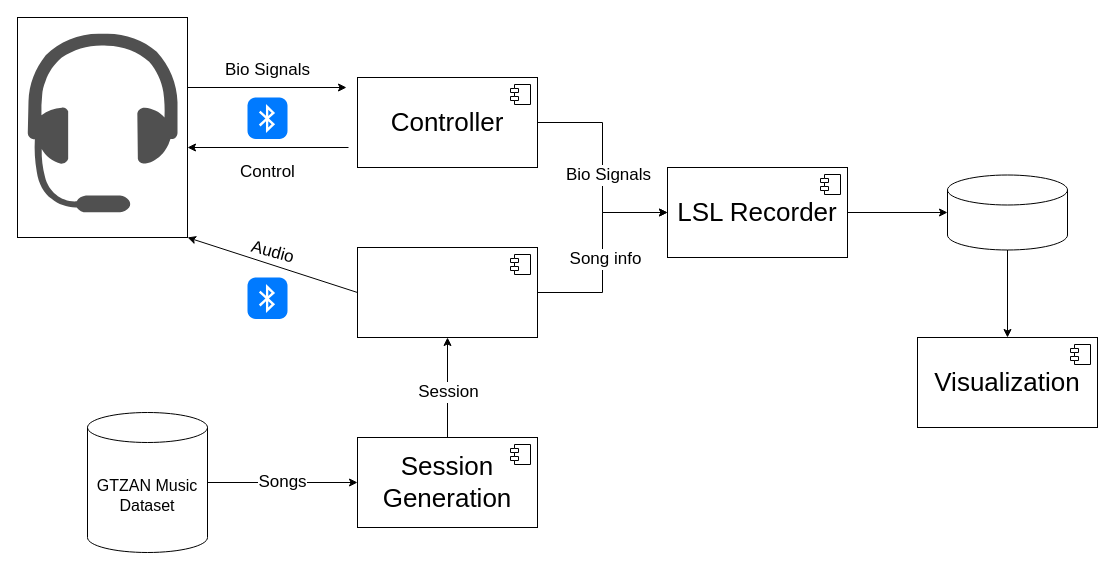
Image size: 1115x570. Some labels were removed from this diagram. Here are the shapes that lost their labels. From the top down, the centre of each, then its label:
[1007,212]: . xdf file
[447,292]: Recording
